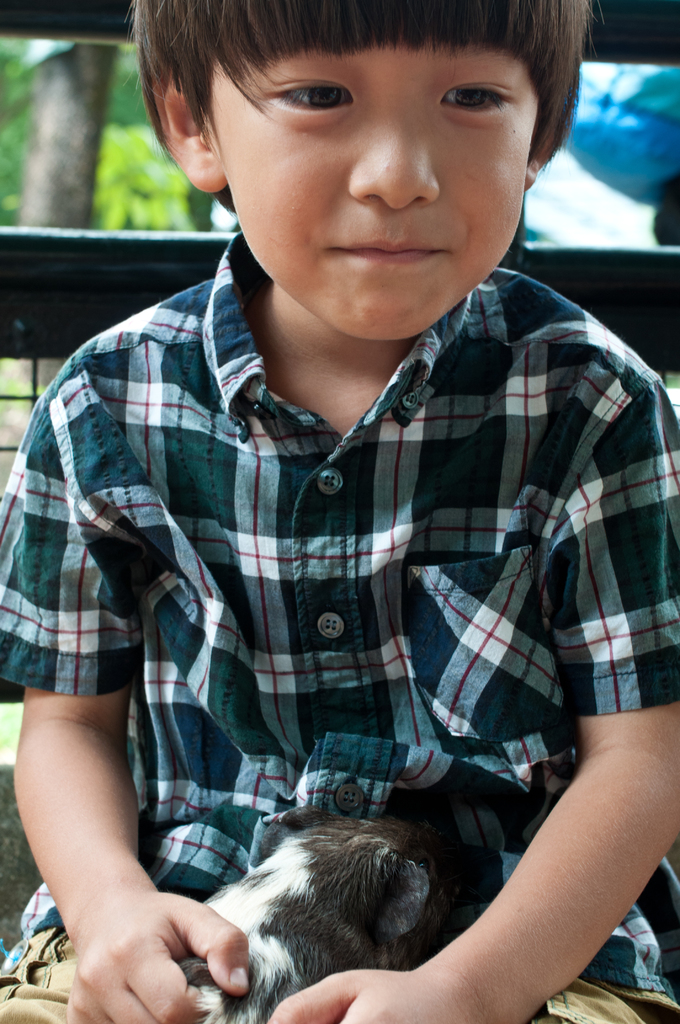Human_hand: (60, 871, 261, 1017), (264, 970, 494, 1023)
